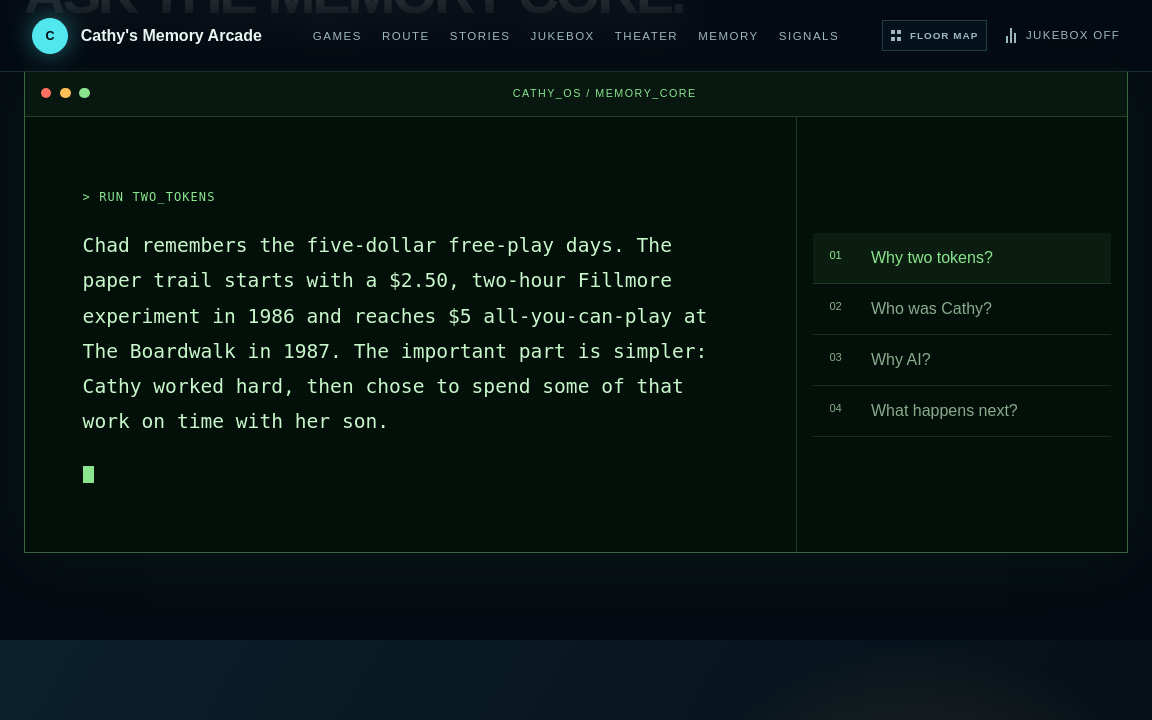
Test: Cathy's Memory Arcade › changes the memory terminal response without a network request
The width and height of the screenshot is (1152, 720).
(page scrolled)
Click the button "03 Why AI?" at (901, 359), box [813,335,1111,386]
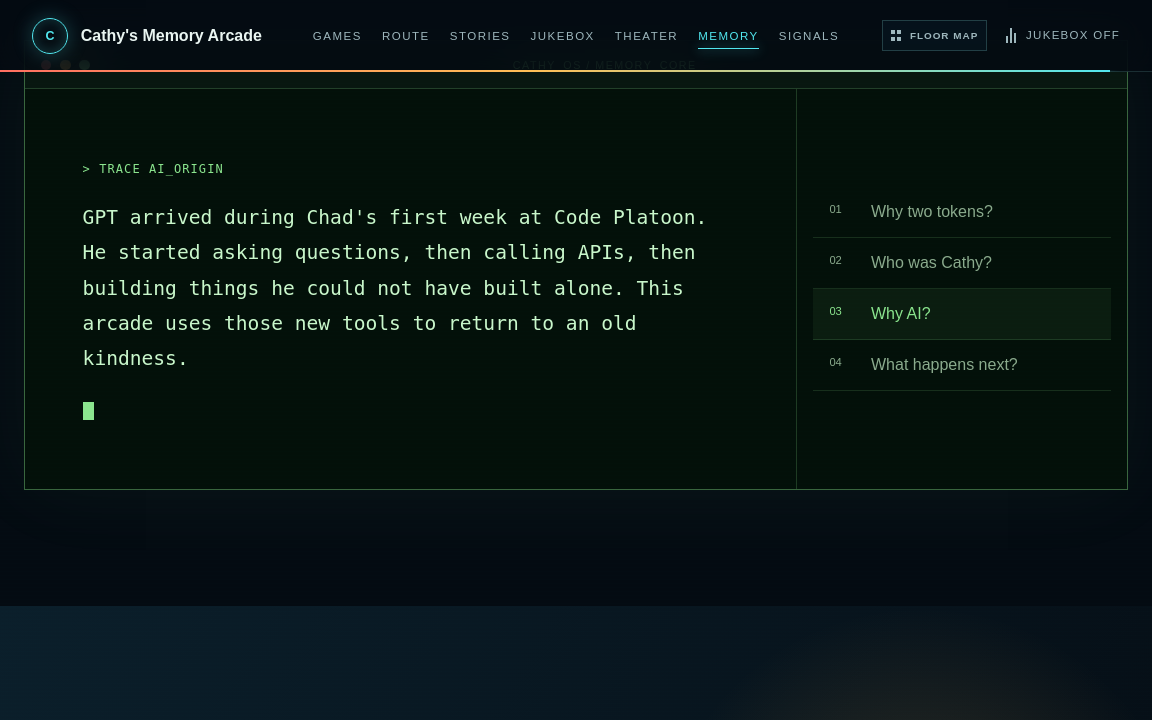
Expected: the text "first week at Code Platoon" is shown, [83,206,707,370]
